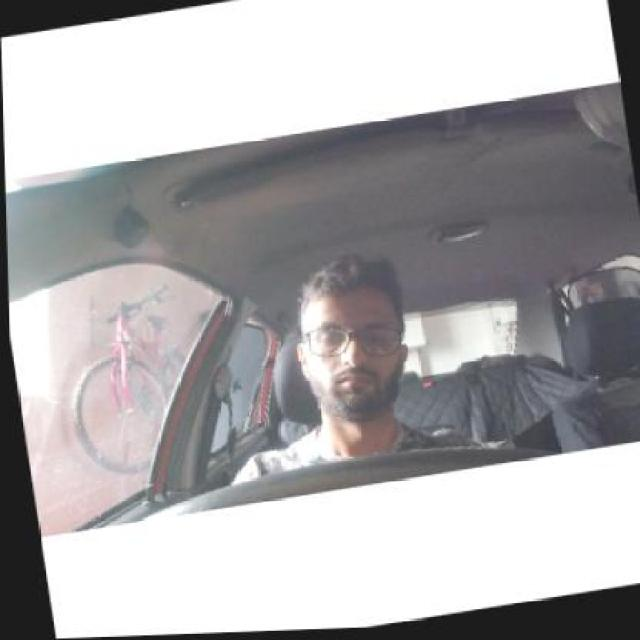drowsy: (292, 252, 410, 421)
